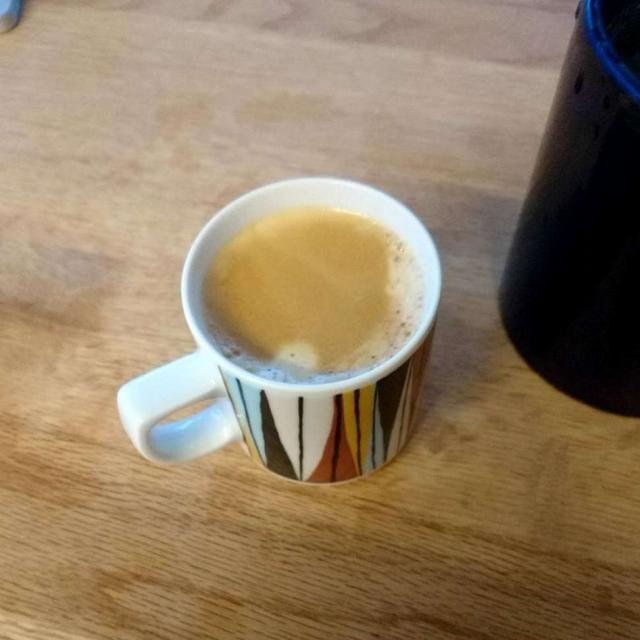coffee: (208, 209, 419, 376)
